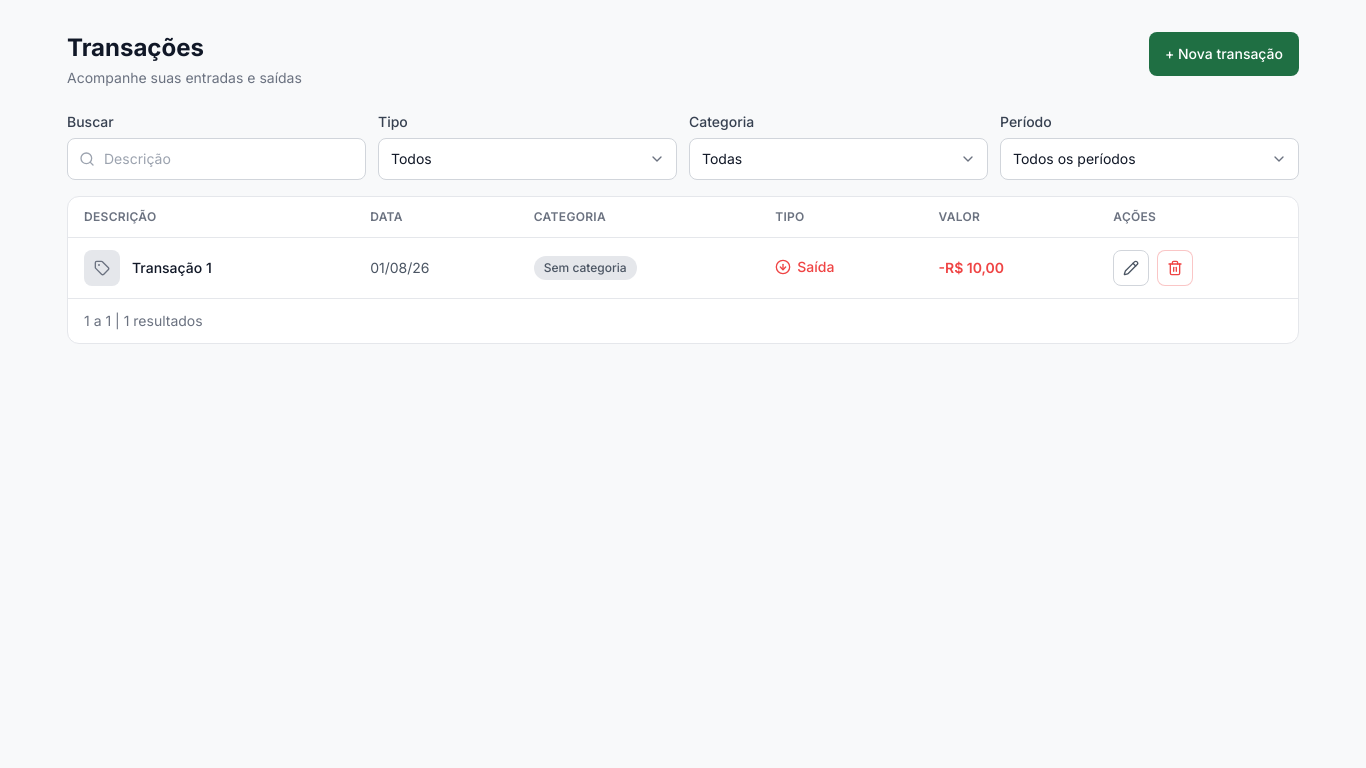
Test case: TransactionsPage › confirms before deleting
Check: the text "Transação 1" is shown, box [132,258,212,278]
Click the button named "Excluir Transação 1": (1175, 268) [1157,250,1193,286]
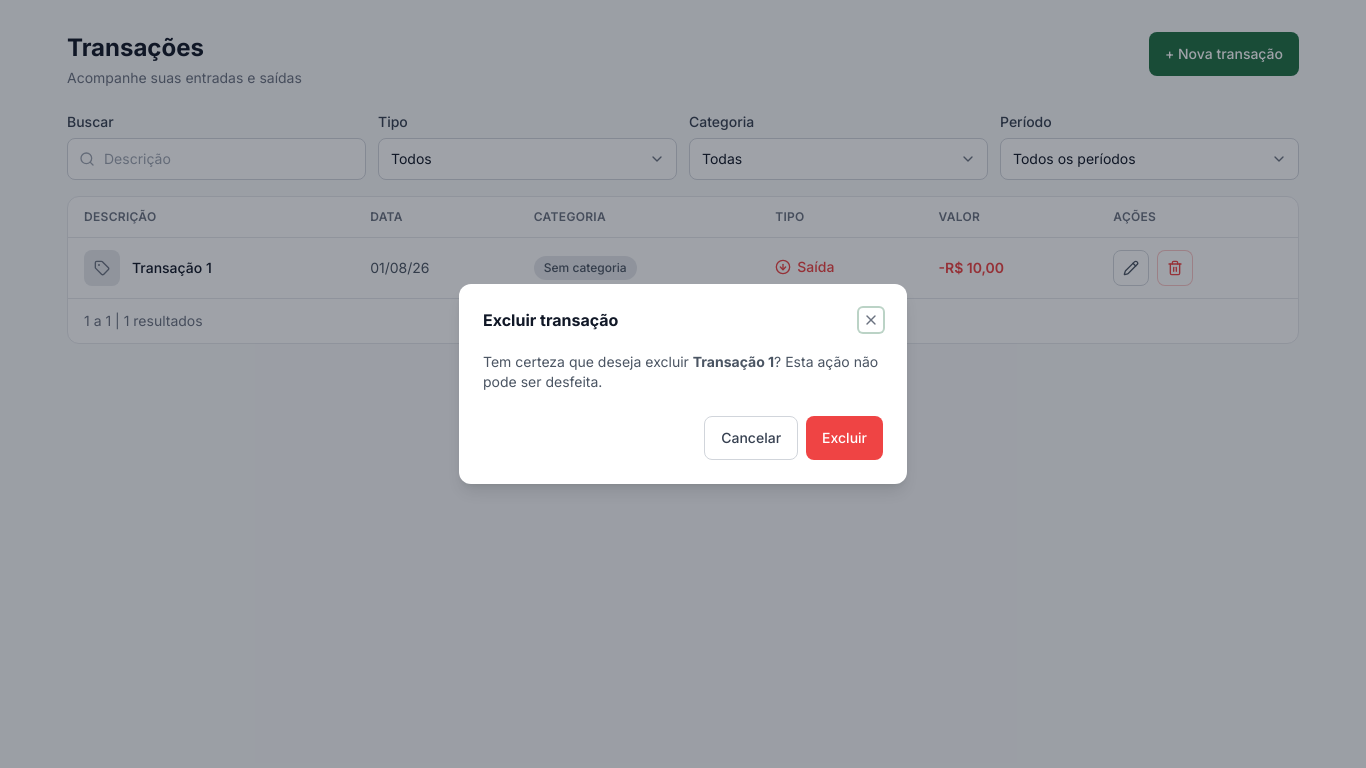
Check: the heading "Excluir transação" is shown, box [483,308,618,332]
